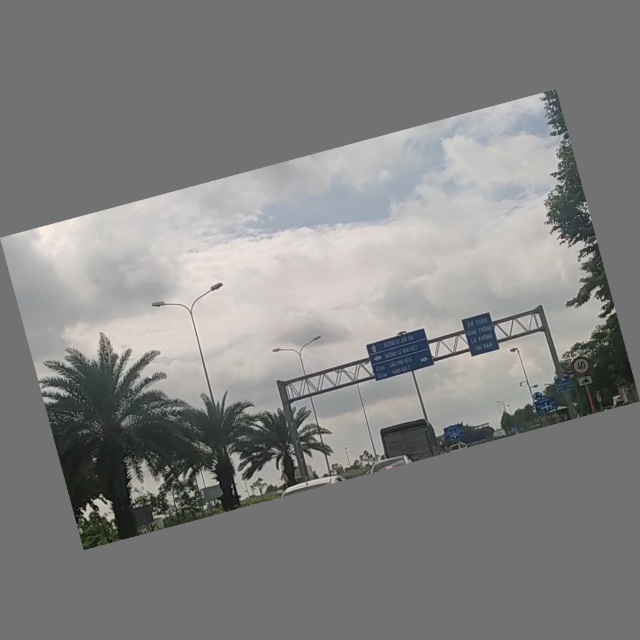P.127*40: (569, 354, 592, 378)
S.505a*Xe may: (575, 374, 594, 389)
